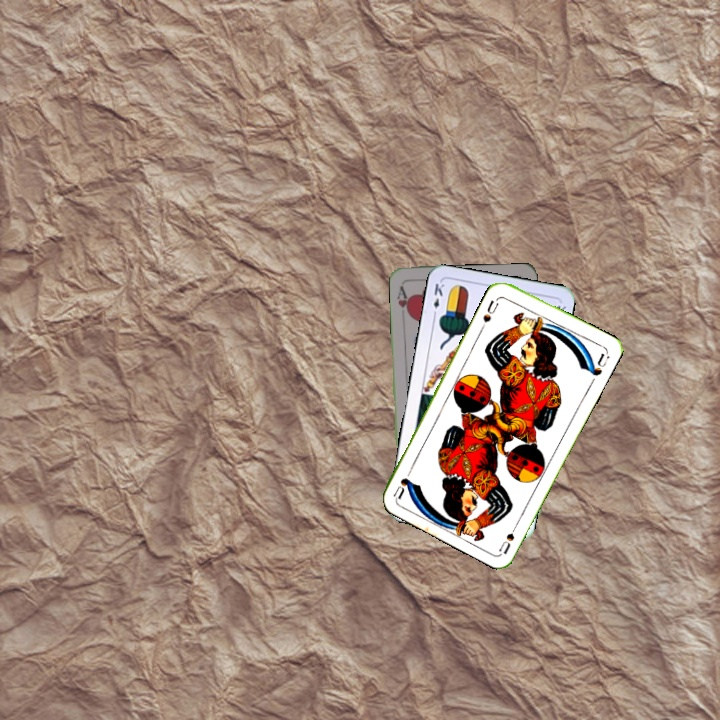EK: (429, 279, 447, 320)
HA: (393, 282, 413, 321)
SU: (495, 516, 522, 556), (479, 293, 503, 325)
